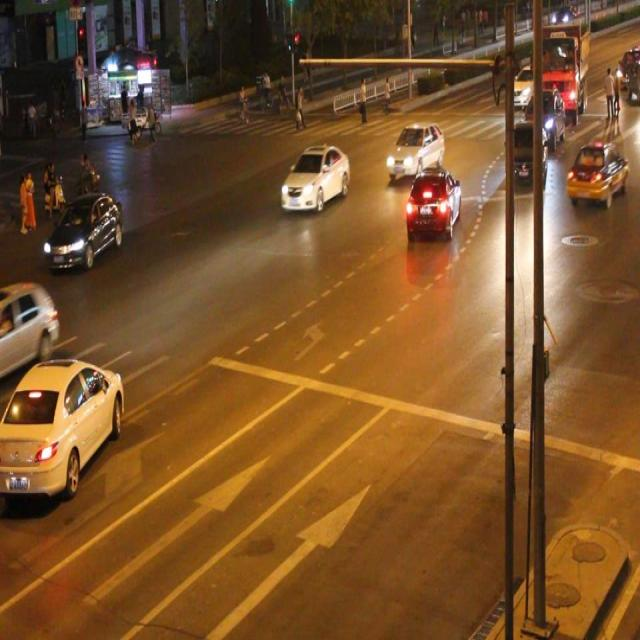car: (0, 356, 124, 494), (45, 193, 124, 268), (1, 280, 58, 377), (282, 144, 349, 214), (404, 167, 462, 240), (566, 140, 625, 205), (386, 120, 444, 178), (506, 120, 546, 188)
